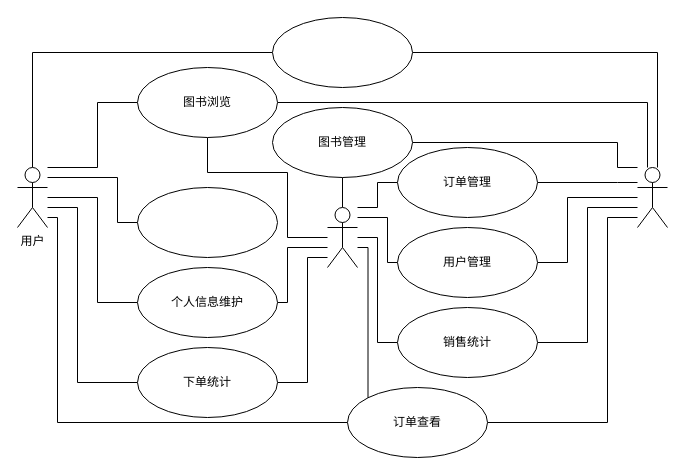
The diagram is 688 pixels wide and 475 high, and some of its shapes have lost their labels. Each missing label, with the centre of its shape:
"DBMS" belongs at pixel 342 237.
"在线讨论与回复" belongs at pixel 342 52.
"管理员" belongs at pixel 652 197.
"购物车查看与下单" belongs at pixel 207 222.
